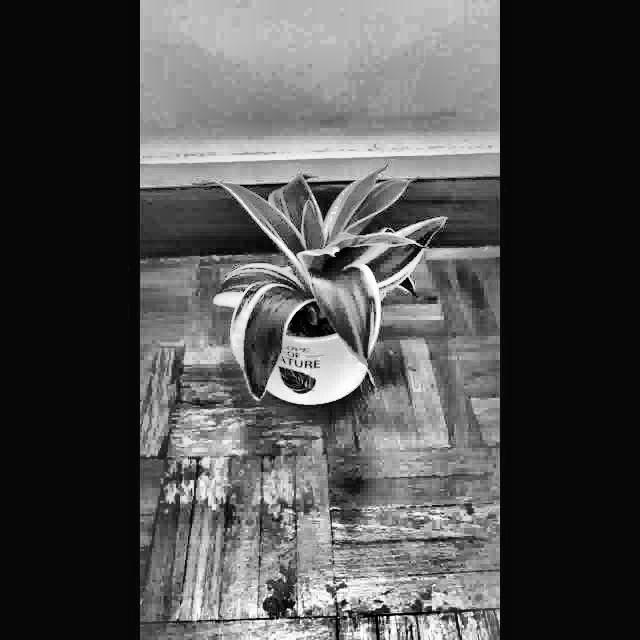plants: (191, 156, 449, 433)
